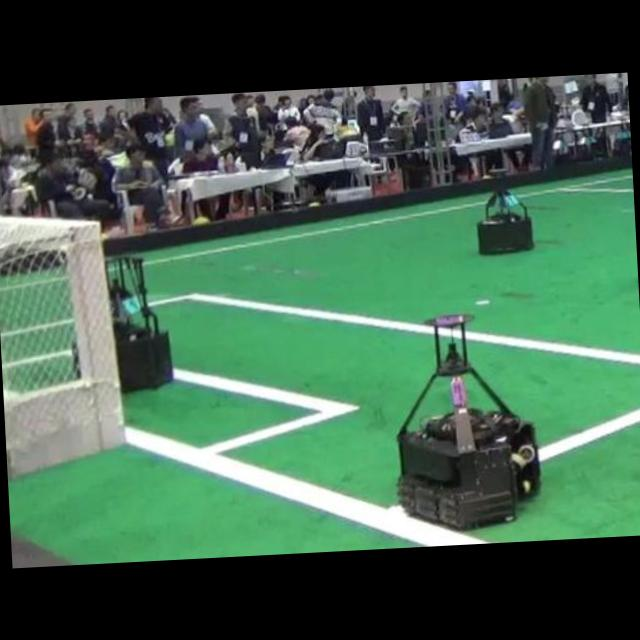robot: (397, 313, 541, 529), (107, 255, 172, 388), (478, 190, 532, 252)
